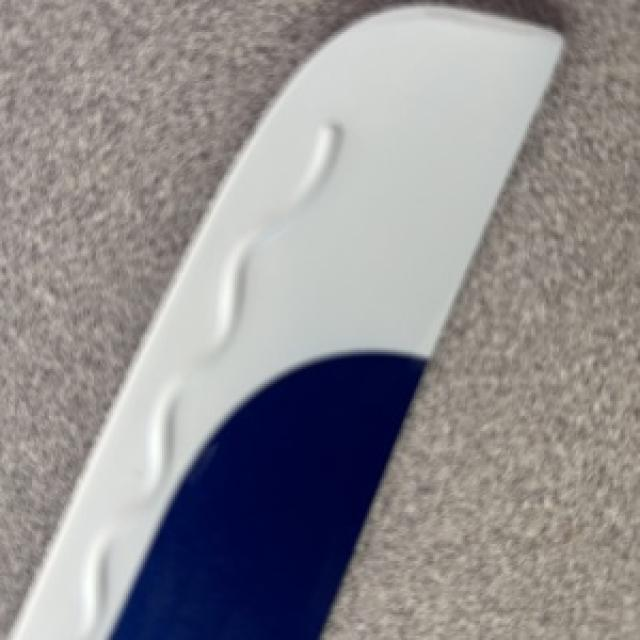healthy: (6, 4, 561, 638)
